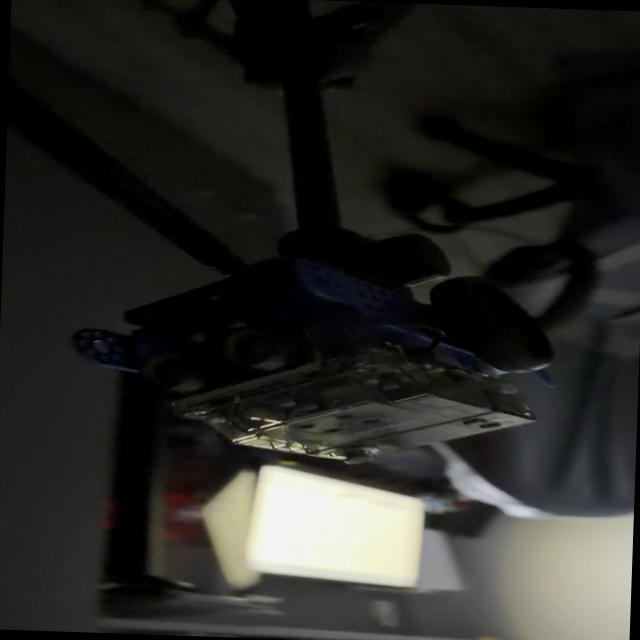mbot-detection: (56, 234, 570, 478)
